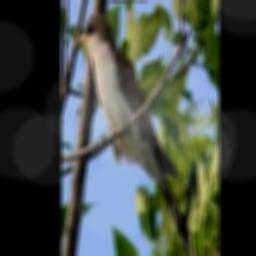Cuckoo: (75, 14, 199, 256)
